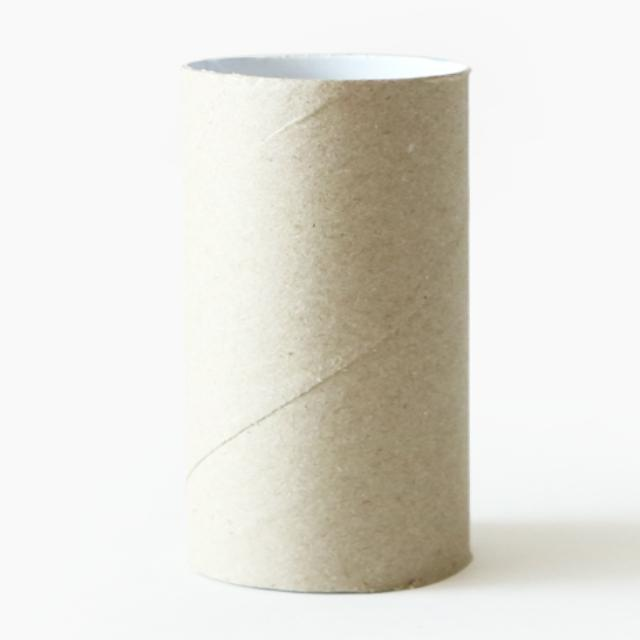biodegradable: (138, 38, 513, 616)
